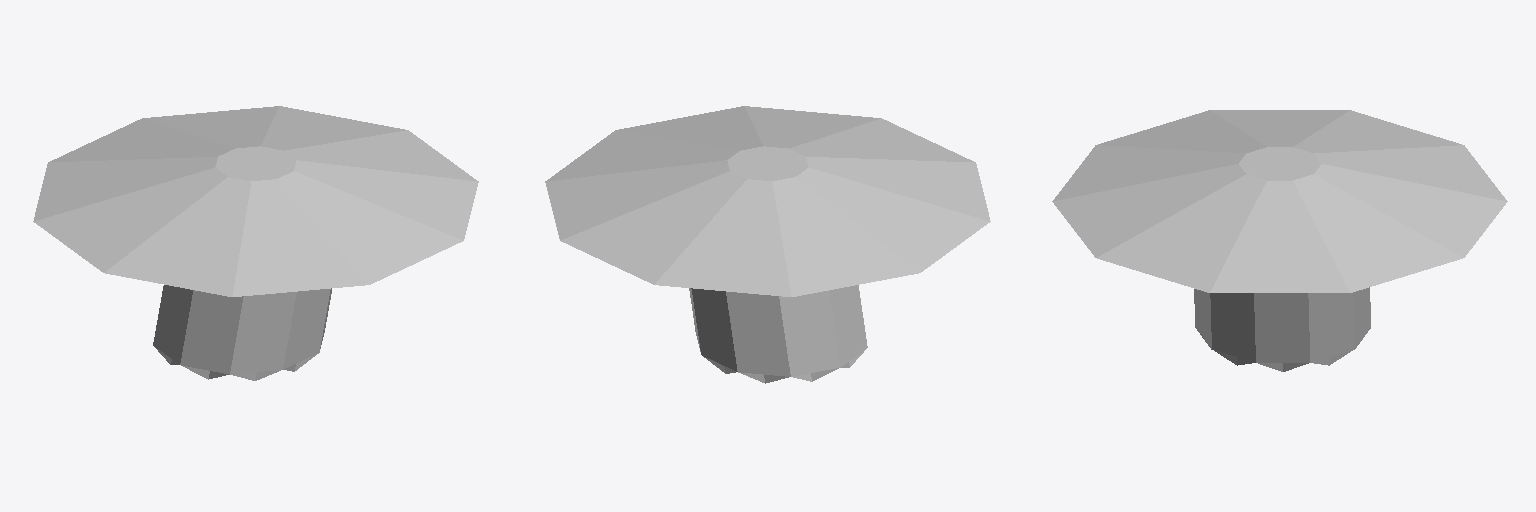
File: AxeEnemy.obj
The picture shows the model from 3 angles: view 1: azimuth 30°, elevation 25°; view 2: azimuth 150°, elevation 25°; view 3: azimuth 270°, elevation 25°; orthographic projection.
Parts seen in each view (by area): view 1: Icosphere; view 2: Icosphere; view 3: Icosphere.
Part boxes in pixels (x1,y1,x2,y2): Icosphere: (33, 106, 478, 380); Icosphere: (545, 106, 990, 383); Icosphere: (1052, 110, 1507, 371).
Size of the model in its own units: 1.72 by 0.8088 by 1.81.